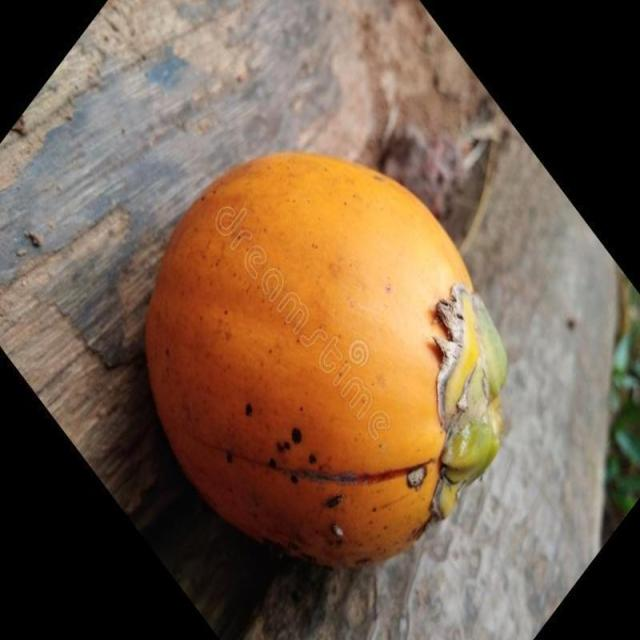good: (143, 151, 509, 572)
